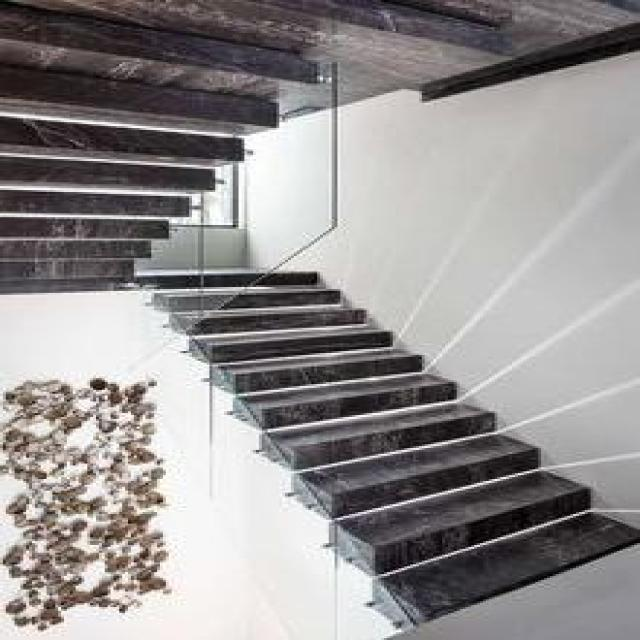Stairs: (0, 0, 640, 624)
